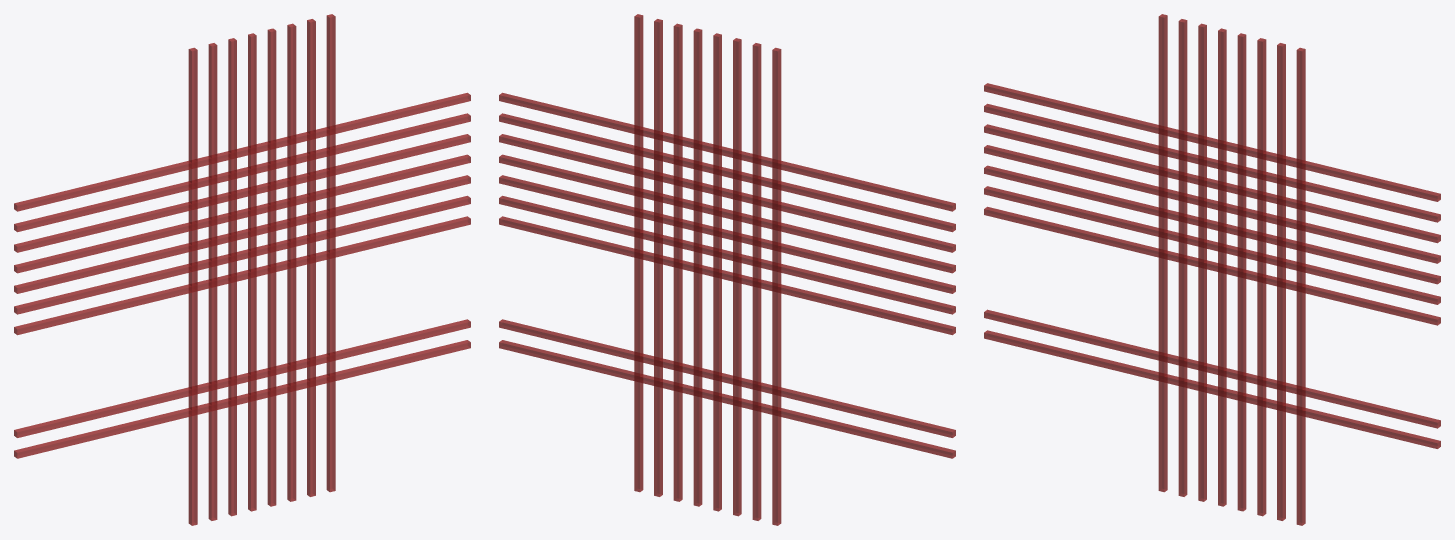
The model's file is Lvl_025.fbx.
The picture shows the model from 3 angles, left to right: view 1: azimuth 30°, elevation 25°; view 2: azimuth 150°, elevation 25°; view 3: azimuth 330°, elevation 25°; orthographic projection.
Visible parts, largest first — view 1: pCube4, pCube6, pCube9, pCube3, pCube8, pCube21, pCube1, pCube12, pCube20, pCube22, pCube17, pCube19 (+5 smaller); view 2: pCube4, pCube6, pCube9, pCube3, pCube8, pCube21, pCube1, pCube23, pCube12, pCube20, pCube22, pCube18 (+5 smaller); view 3: pCube6, pCube9, pCube4, pCube8, pCube3, pCube22, pCube12, pCube17, pCube20, pCube19, pCube1, pCube23 (+5 smaller).
Boxes of the visible parts, bbox=[...] form: pCube4: bbox=[287, 23, 296, 501]; pCube6: bbox=[326, 14, 335, 492]; pCube9: bbox=[188, 47, 197, 525]; pCube3: bbox=[267, 28, 276, 506]; pCube8: bbox=[208, 43, 217, 520]; pCube21: bbox=[14, 134, 470, 252]; pCube1: bbox=[14, 340, 470, 458]; pCube12: bbox=[14, 319, 470, 437]; pCube20: bbox=[14, 154, 470, 273]; pCube22: bbox=[14, 113, 470, 232]; pCube17: bbox=[14, 216, 470, 335]; pCube19: bbox=[14, 175, 470, 293]; pCube4: bbox=[673, 23, 682, 501]; pCube6: bbox=[634, 14, 643, 492]; pCube9: bbox=[772, 47, 781, 525]; pCube3: bbox=[693, 28, 702, 506]; pCube8: bbox=[752, 43, 761, 520]; pCube21: bbox=[499, 134, 955, 252]; pCube1: bbox=[499, 340, 955, 458]; pCube23: bbox=[499, 92, 955, 211]; pCube12: bbox=[499, 319, 955, 437]; pCube20: bbox=[499, 154, 955, 273]; pCube22: bbox=[499, 113, 955, 232]; pCube18: bbox=[499, 195, 955, 314]; pCube6: bbox=[1296, 47, 1305, 525]; pCube9: bbox=[1158, 14, 1167, 492]; pCube4: bbox=[1257, 38, 1266, 516]; pCube8: bbox=[1178, 19, 1187, 496]; pCube3: bbox=[1237, 33, 1246, 511]; pCube22: bbox=[984, 103, 1440, 222]; pCube12: bbox=[984, 309, 1440, 428]; pCube17: bbox=[984, 206, 1440, 325]; pCube20: bbox=[984, 145, 1440, 263]; pCube19: bbox=[984, 165, 1440, 284]; pCube1: bbox=[984, 330, 1440, 448]; pCube23: bbox=[984, 83, 1440, 201].
Size of the model in its own units: 2000 by 2000 by 25.
